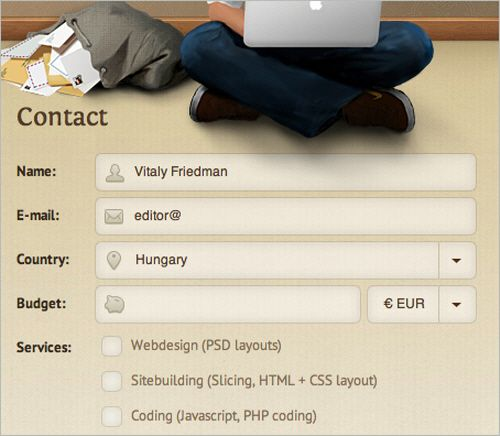_form_: (76, 20, 492, 436)
checkbox: (101, 336, 124, 358), (101, 371, 123, 392), (101, 405, 121, 427)
checkbox_with_label: (99, 369, 377, 394), (98, 403, 320, 429), (98, 334, 286, 359)
field: (92, 196, 478, 236), (93, 152, 477, 192), (94, 286, 361, 324)
field_with_label: (16, 196, 479, 239), (18, 151, 478, 194), (17, 239, 479, 281), (16, 284, 363, 325)
select: (94, 241, 478, 280), (366, 286, 476, 323)
